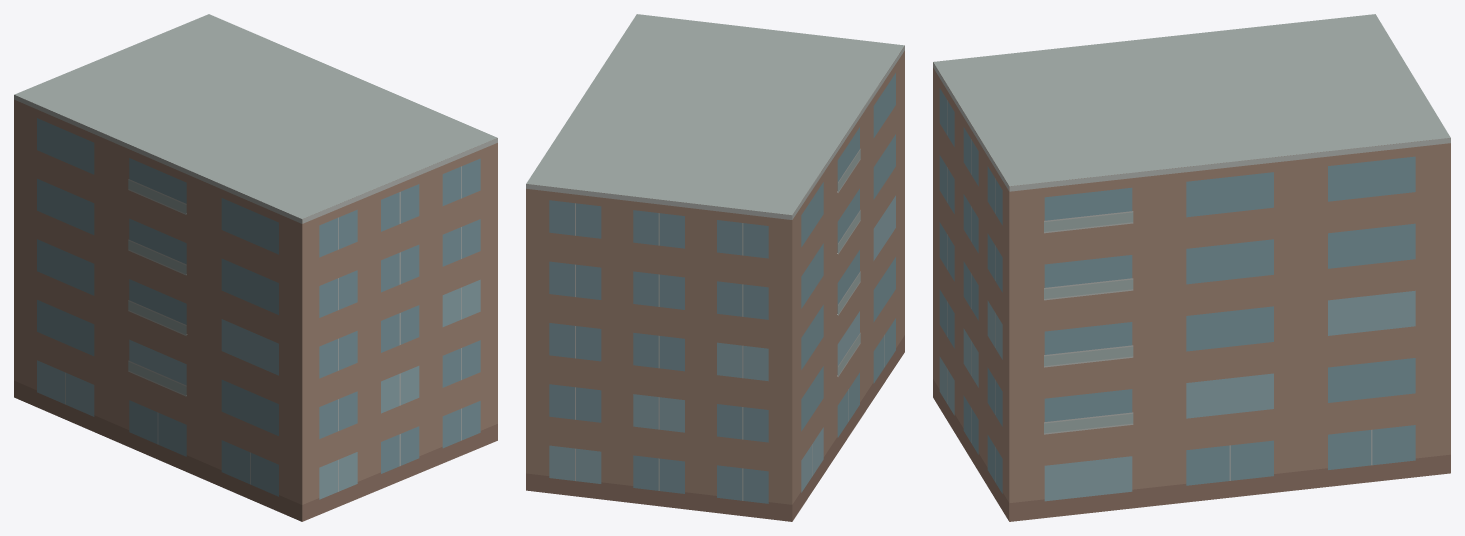
The model's file is survey-upis-33026113.glb.
3 views of the same model, side by side, from view 1: azimuth 30°, elevation 25°; view 2: azimuth 150°, elevation 25°; view 3: azimuth 270°, elevation 25° (orthographic). The views are drawn at different scales.
Visible parts, largest first — view 1: survey-upis-33026113.tmp; view 2: survey-upis-33026113.tmp; view 3: survey-upis-33026113.tmp.
Part boxes in pixels (x1=…): survey-upis-33026113.tmp: x1=14, y1=14, x2=497, y2=521; survey-upis-33026113.tmp: x1=526, y1=14, x2=904, y2=521; survey-upis-33026113.tmp: x1=933, y1=14, x2=1450, y2=521.
Size of the model in its own units: 16.81 by 15.25 by 21.33.
